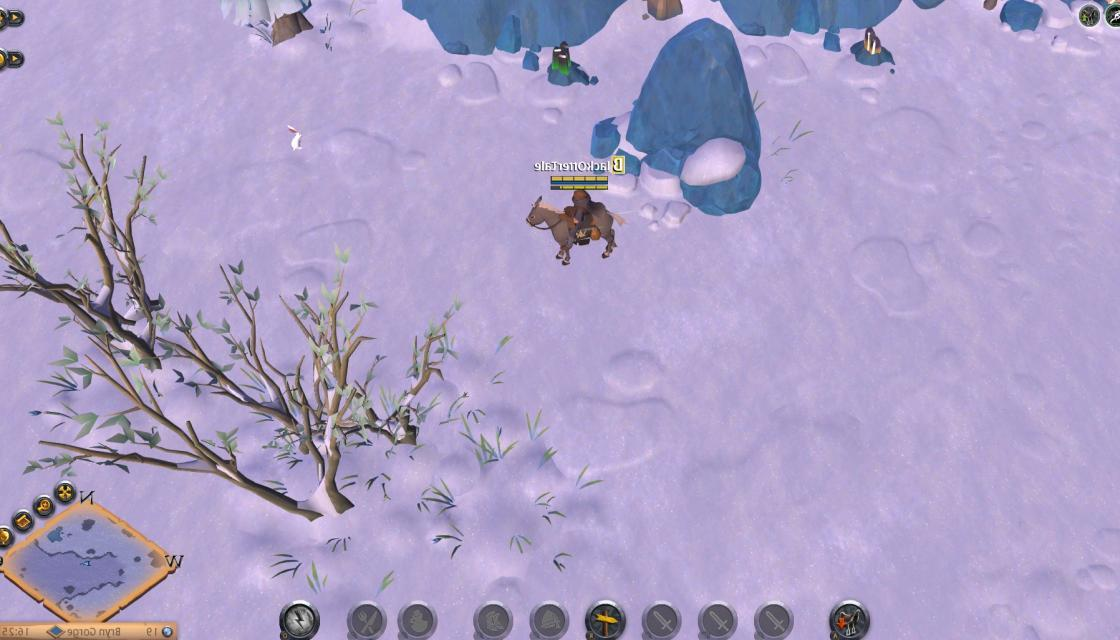copperore: (850, 22, 898, 70)
limestone: (633, 0, 685, 22)
tinore: (542, 37, 590, 92)
